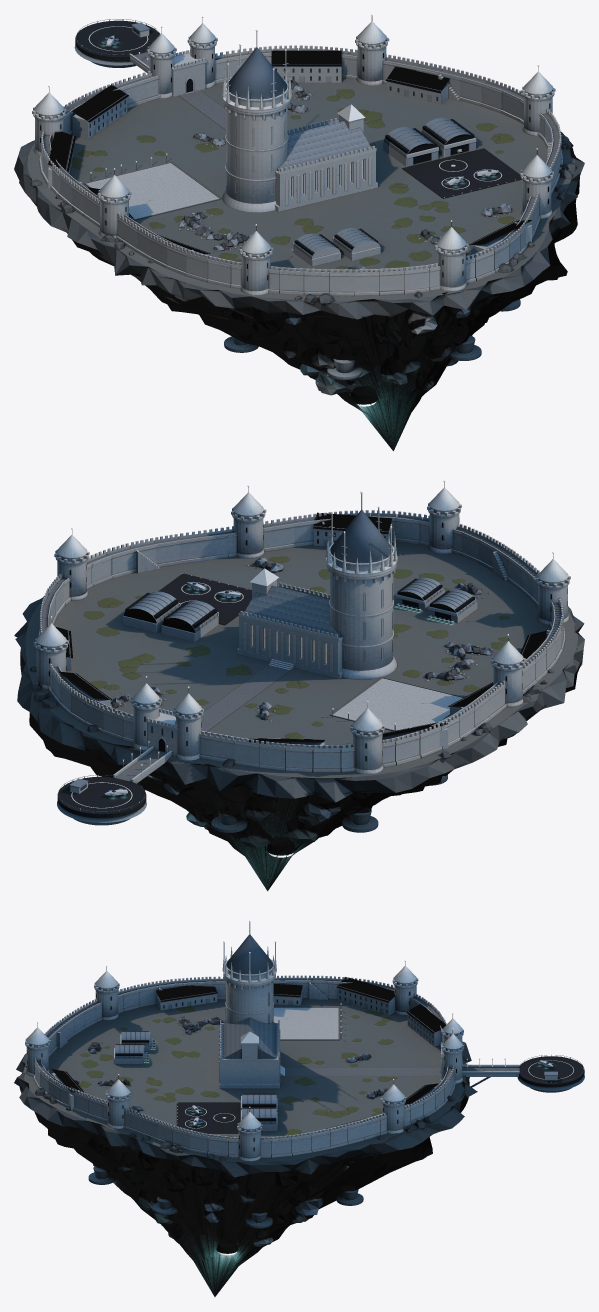
The model's file is silver_crown.glb.
The picture shows the model from 3 angles, top to bottom: view 1: azimuth 30°, elevation 25°; view 2: azimuth 150°, elevation 25°; view 3: azimuth 270°, elevation 25°; orthographic projection. The views are drawn at different scales.
Parts seen in each view (by area): view 1: site_island, props_curtain, props_underside, walls_ext, props_ranges, props_hangars, props_yard, props_gate, props_pad, props_dock; view 2: site_island, props_curtain, walls_ext, props_underside, props_yard, props_hangars, props_gate, props_ranges, props_dock, props_pad, props_craft; view 3: site_island, props_underside, props_curtain, walls_ext, props_ranges, props_yard, props_hangars, props_dock, props_gate, props_pad.
Part boxes in pixels (<box>): site_island: <box>14,77,584,319</box>; props_curtain: <box>32,14,562,295</box>; props_underside: <box>30,154,579,450</box>; walls_ext: <box>222,29,377,212</box>; props_ranges: <box>48,50,531,255</box>; props_hangars: <box>292,117,476,266</box>; props_yard: <box>83,90,225,220</box>; props_gate: <box>129,16,217,98</box>; props_pad: <box>402,148,521,198</box>; props_dock: <box>74,19,160,67</box>; site_island: <box>14,541,584,802</box>; props_curtain: <box>33,480,570,774</box>; walls_ext: <box>237,491,397,679</box>; props_underside: <box>20,649,581,891</box>; props_yard: <box>201,665,464,731</box>; props_hangars: <box>123,577,477,642</box>; props_gate: <box>113,676,203,783</box>; props_ranges: <box>55,512,546,749</box>; props_dock: <box>57,775,146,825</box>; props_pad: <box>158,573,251,625</box>; props_craft: <box>104,582,454,797</box>; site_island: <box>14,998,477,1177</box>; props_underside: <box>19,1079,469,1296</box>; props_curtain: <box>25,960,455,1161</box>; walls_ext: <box>219,920,284,1088</box>; props_ranges: <box>51,977,445,1128</box>; props_yard: <box>273,1003,441,1075</box>; props_hangars: <box>114,1031,277,1130</box>; props_dock: <box>517,1054,584,1092</box>; props_gate: <box>441,1013,519,1087</box>; props_pad: <box>177,1102,240,1133</box>.
Bounding box in the file's own units: 268 × 232 × 360.
Materials: 11 (11 with a texture image).
